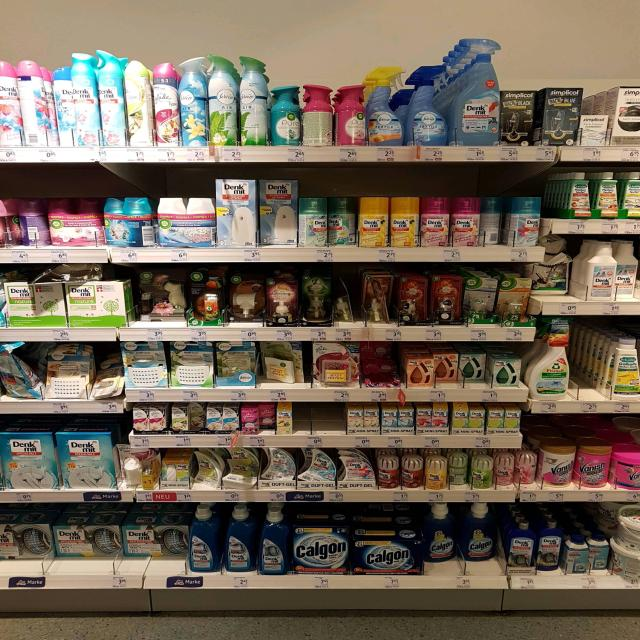empty_space: (579, 332, 605, 397), (305, 404, 338, 429)
